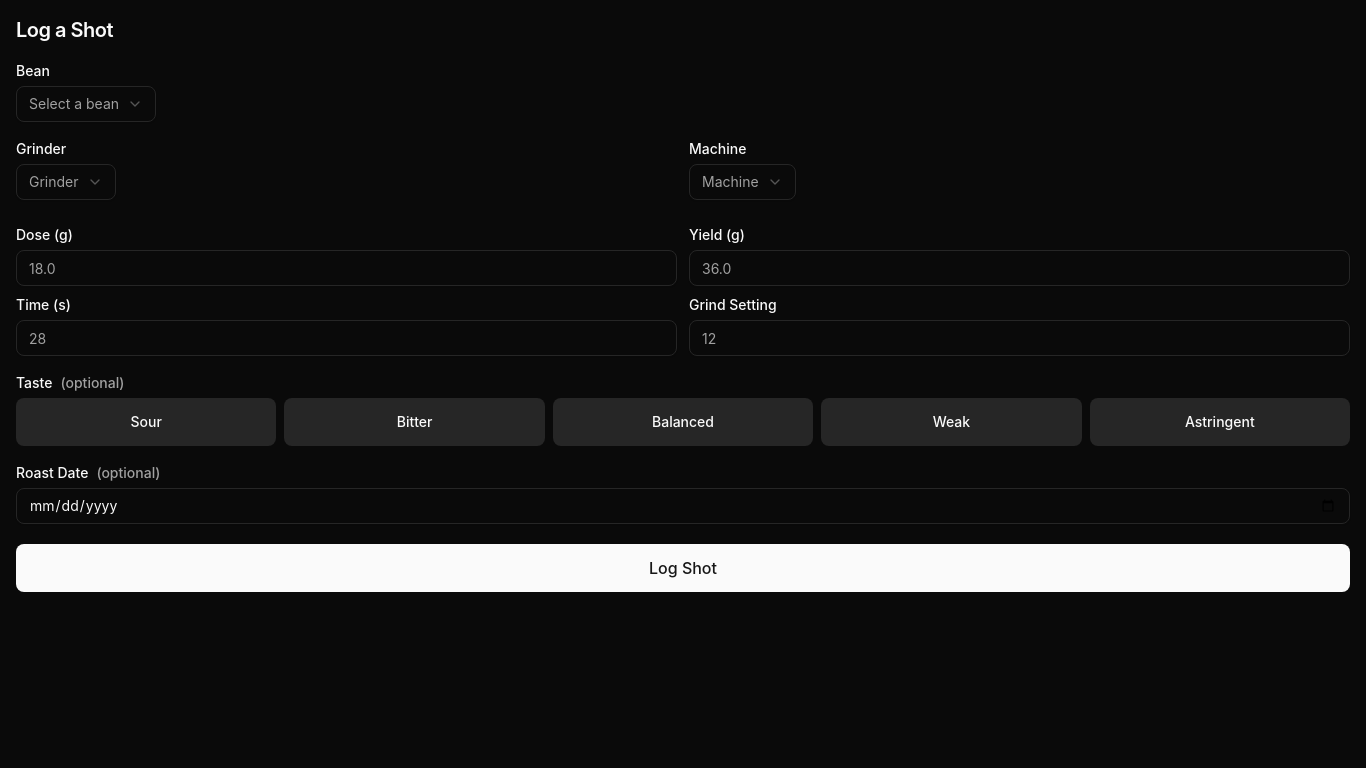
LogShot › shows intensity options after selecting a non-balanced taste
This screenshot has width=1366, height=768.
What coordinates should you click on to do the following:
click the button "Sour"
I would click on:
 (146, 422)
Its box is [16, 398, 276, 446].
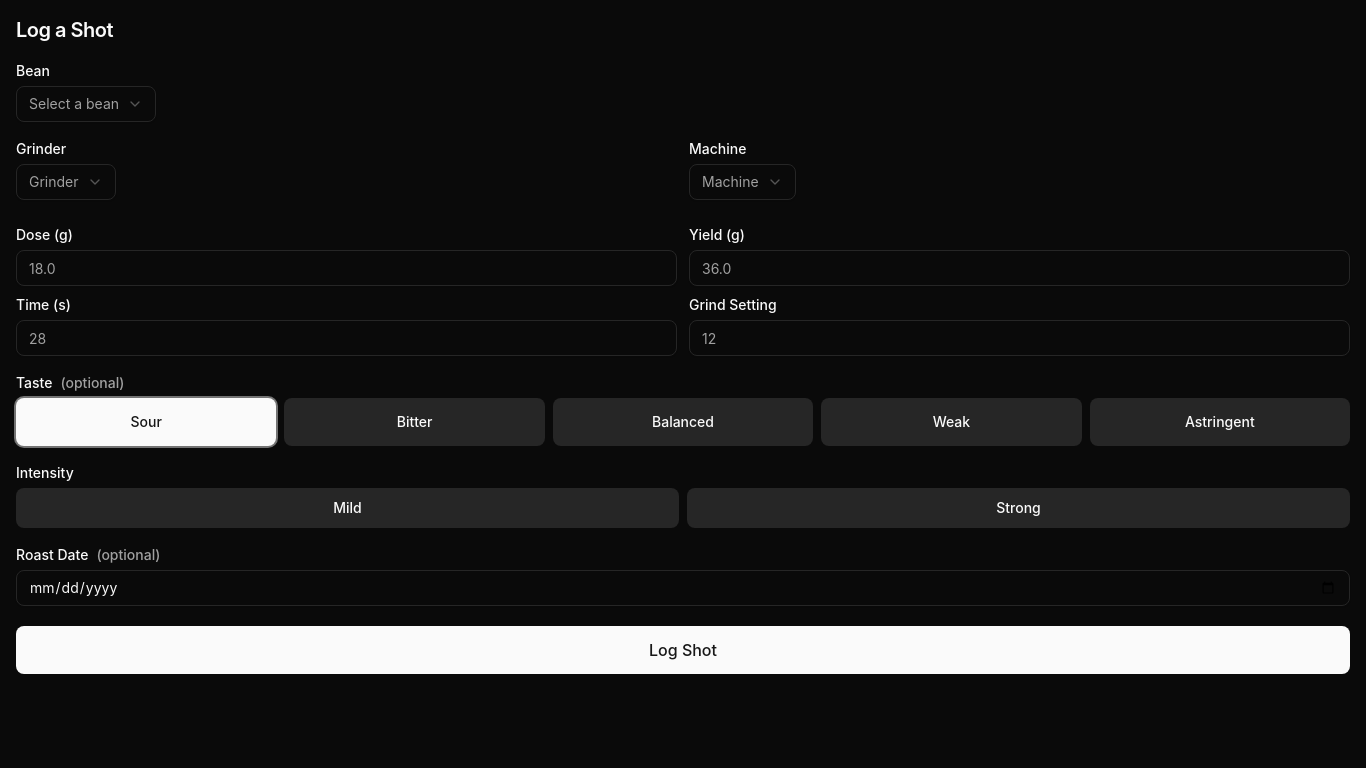
Expected: the button "Mild" is shown, [16, 488, 679, 528]
Expected: the button "Strong" is shown, [687, 488, 1350, 528]
